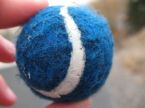tennis ball: (15, 5, 114, 102)
